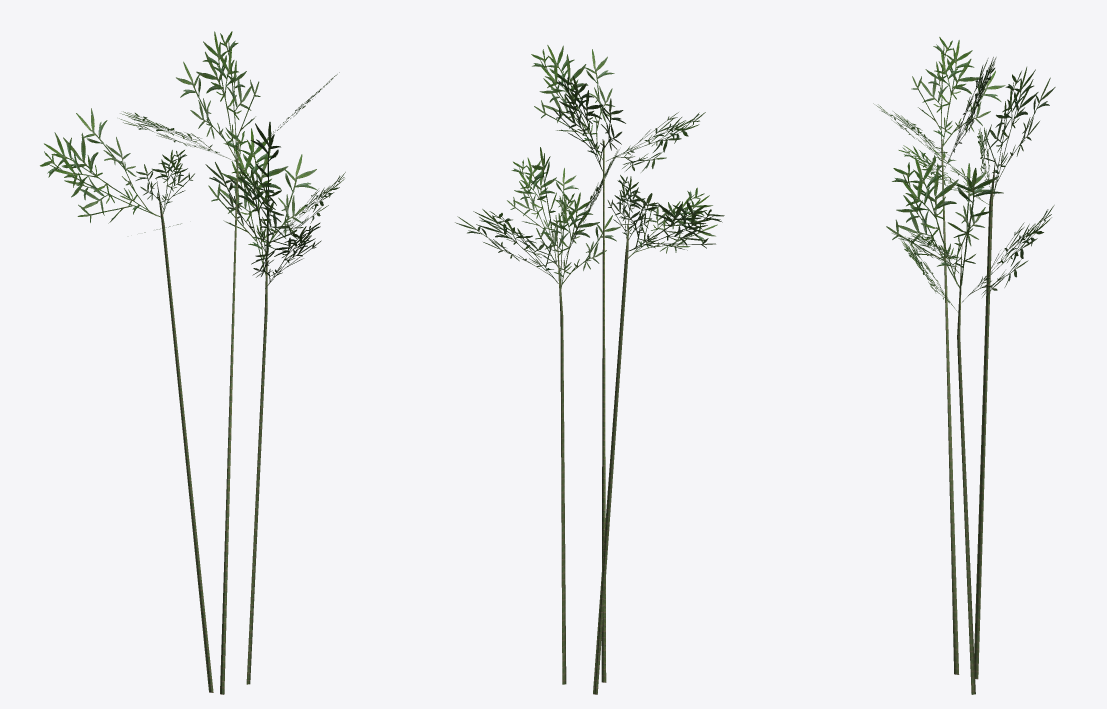
Rendered from leaf_bamboo_tri_l2.fbx.
The picture shows the model from 3 angles, left to right: view 1: azimuth 30°, elevation 25°; view 2: azimuth 150°, elevation 25°; view 3: azimuth 270°, elevation 25°; orthographic projection. The views are drawn at different scales.
Parts seen in each view (by area): view 1: mesh_node; view 2: mesh_node; view 3: mesh_node.
Part boxes in pixels (box(x1,y1,x2,y2)): mesh_node: box(40, 31, 345, 694); mesh_node: box(455, 45, 724, 694); mesh_node: box(873, 37, 1055, 694).
Bounding box in the file's own units: 6.97 × 11.46 × 4.49.
